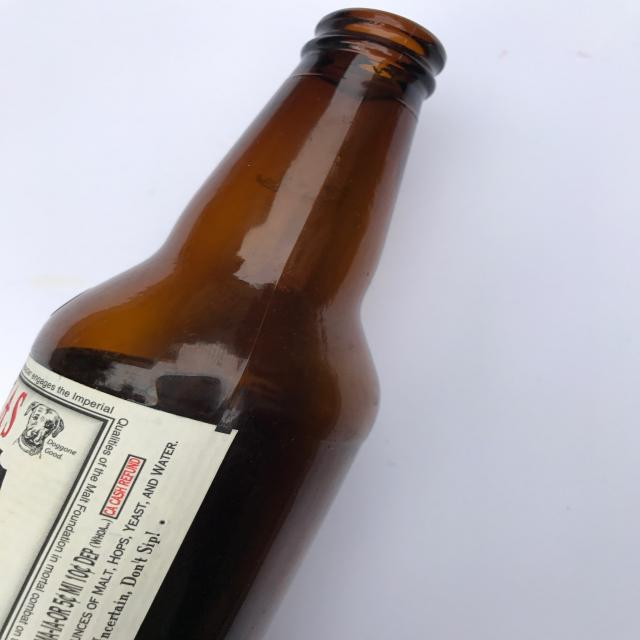Glass: (0, 0, 468, 639)
